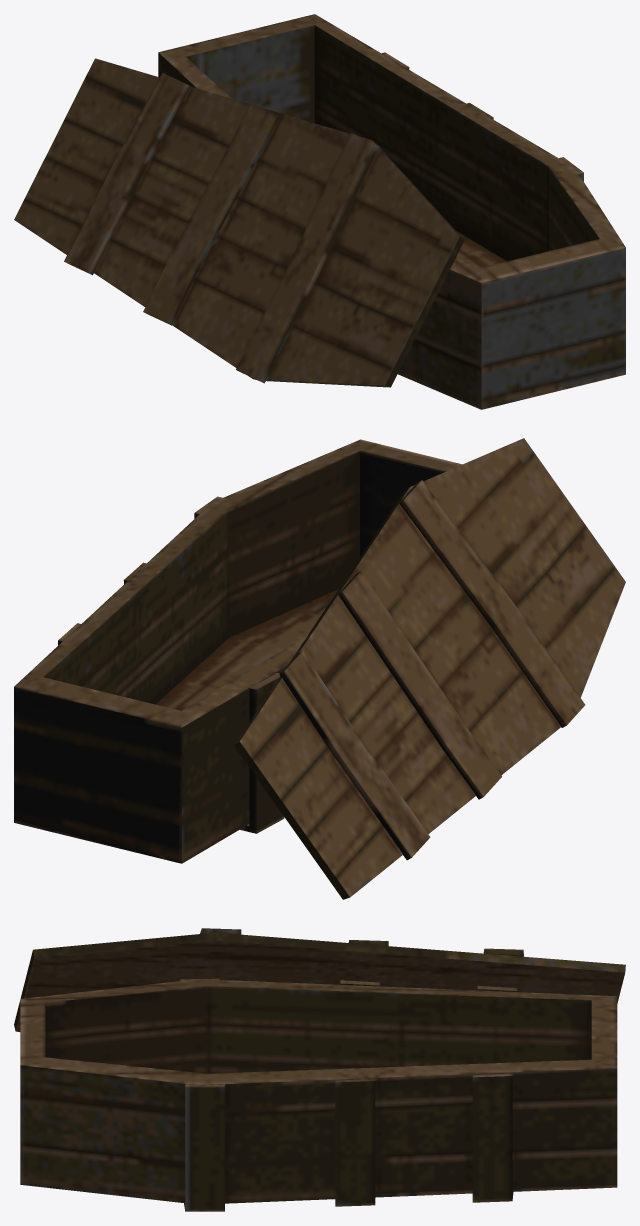
Rendered from Open_Coffin.fbx.
3 renders of one model, top to bottom at view 1: azimuth 30°, elevation 25°; view 2: azimuth 150°, elevation 25°; view 3: azimuth 270°, elevation 25°, orthographic. The views are drawn at different scales.
Visible parts, largest first — view 1: Open_Coffin; view 2: Open_Coffin; view 3: Open_Coffin.
Part boxes in pixels (box(x1,y1,x2,y2)): Open_Coffin: box(14, 14, 625, 409); Open_Coffin: box(14, 438, 625, 899); Open_Coffin: box(14, 928, 625, 1211).
Bounding box in the file's own units: 448 × 249 × 719.
